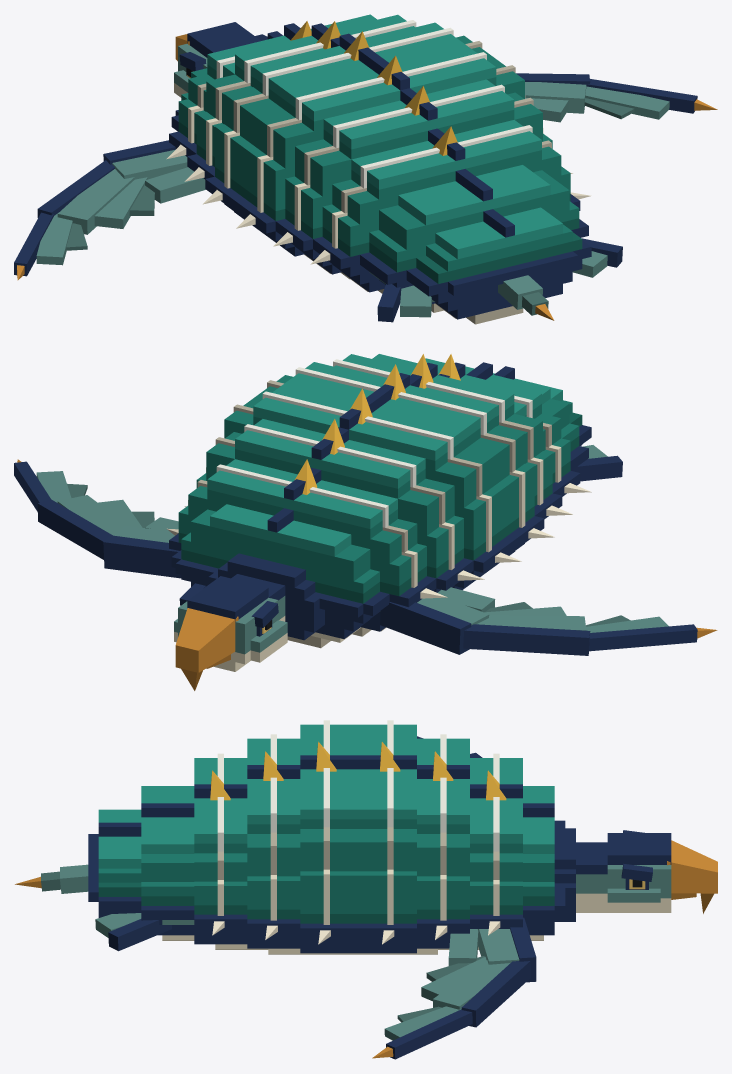
File: Archelon.obj
The picture shows the model from 3 angles, top to bottom: view 1: azimuth 30°, elevation 25°; view 2: azimuth 150°, elevation 25°; view 3: azimuth 270°, elevation 25°; orthographic projection. The views are drawn at different scales.
Parts seen in each view (by area): view 1: Shell, WingL2, WingL1, WingR3, Head, WingL3, WingR2, FlipBL, Tail, FlipBR; view 2: Shell, Head, WingL2, WingL1, WingR2, WingR1, WingL3, WingR3, FlipBL; view 3: Shell, Head, WingR2, WingR1, WingR3, FlipBR, Tail.
Boxes of the visible parts, bbox=[...] form: Shell: bbox=[166, 14, 591, 324]; WingL2: bbox=[37, 160, 154, 234]; WingL1: bbox=[103, 140, 205, 203]; WingR3: bbox=[584, 79, 717, 119]; Head: bbox=[174, 22, 267, 97]; WingL3: bbox=[14, 212, 87, 280]; WingR2: bbox=[516, 73, 590, 122]; FlipBL: bbox=[377, 284, 434, 322]; Tail: bbox=[498, 275, 554, 320]; FlipBR: bbox=[572, 238, 622, 277]; Shell: bbox=[166, 354, 591, 648]; Head: bbox=[174, 574, 287, 690]; WingL2: bbox=[463, 602, 590, 655]; WingL1: bbox=[380, 587, 495, 654]; WingR2: bbox=[37, 495, 154, 559]; WingR1: bbox=[103, 517, 181, 578]; WingL3: bbox=[586, 615, 717, 651]; WingR3: bbox=[14, 459, 87, 511]; FlipBL: bbox=[572, 445, 622, 481]; Shell: bbox=[88, 720, 575, 954]; Head: bbox=[576, 830, 717, 913]; WingR2: bbox=[421, 956, 530, 1027]; WingR1: bbox=[448, 917, 536, 982]; WingR3: bbox=[372, 1006, 472, 1059]; FlipBR: bbox=[95, 913, 171, 951]; Tail: bbox=[15, 864, 88, 893].
Bounding box in the file's own units: 32.87 × 8.41 × 29.88.
1 material, 1 textured.
